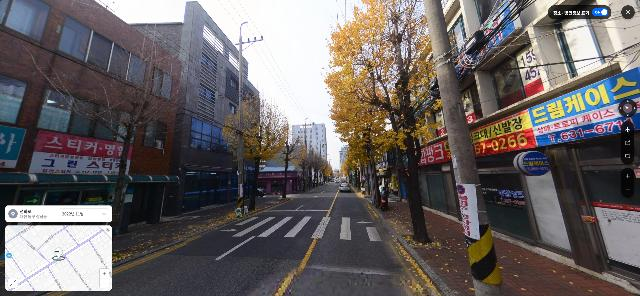ginkgo: (321, 0, 438, 244), (220, 91, 296, 211), (281, 139, 296, 199), (296, 139, 308, 191)
other: (77, 22, 190, 236)
